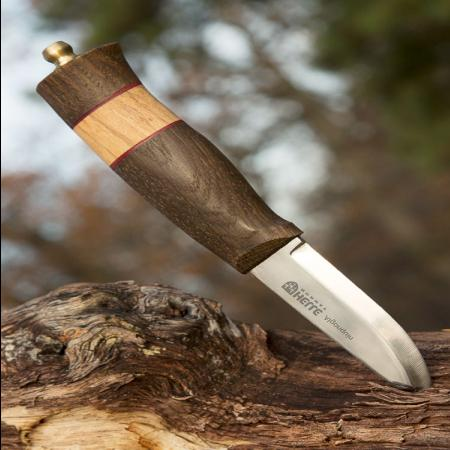long weapon: (227, 212, 436, 401)
